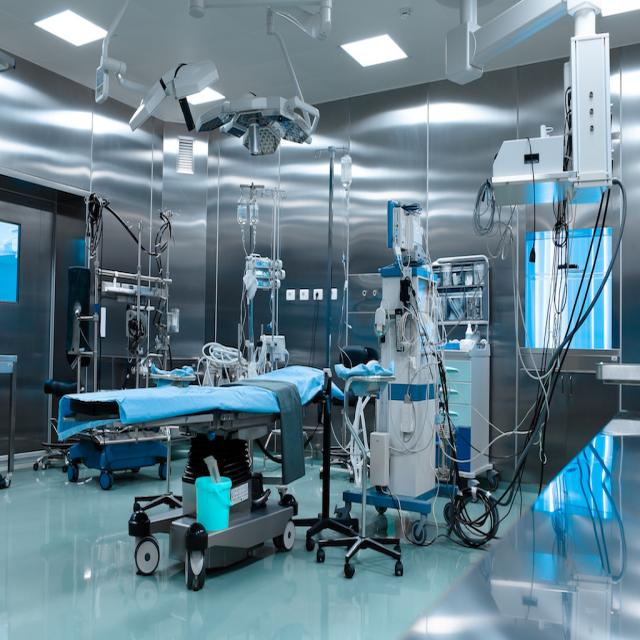iv_fluids: (238, 187, 263, 252)
lightings: (244, 103, 313, 176)
patient_bed: (54, 379, 335, 498)
ventilator: (391, 195, 474, 534)
